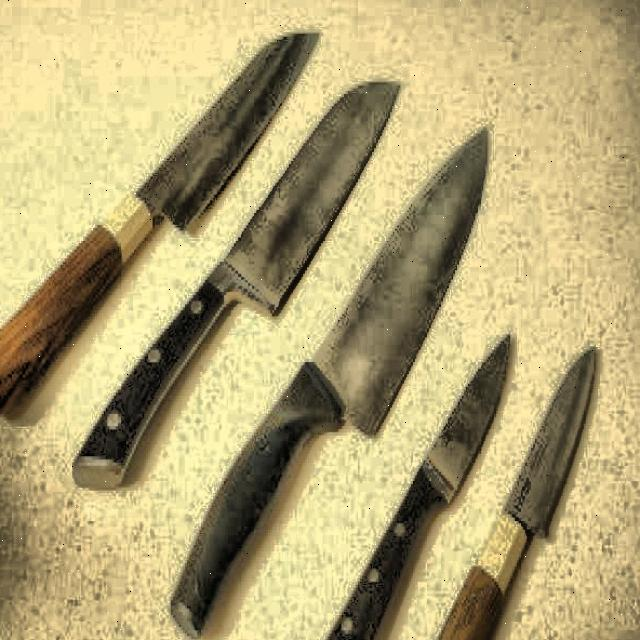knife: (170, 122, 493, 640), (74, 78, 405, 498), (0, 31, 323, 430), (308, 331, 521, 640), (414, 349, 605, 640)
